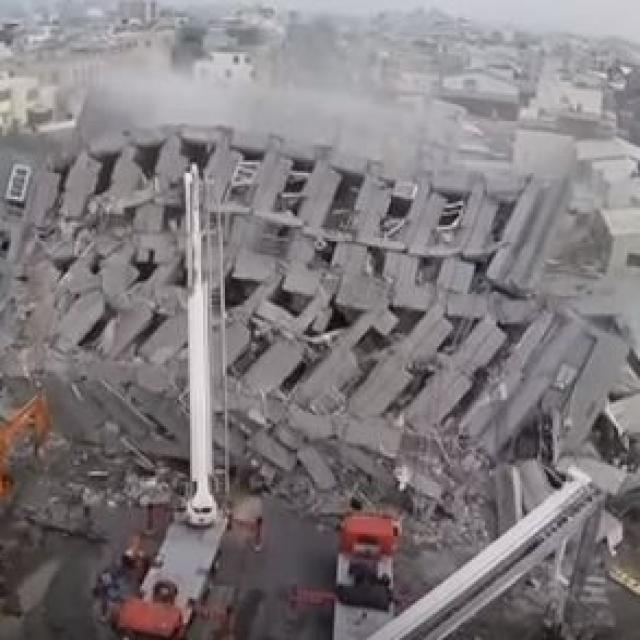collapsed_building: (0, 138, 638, 498)
